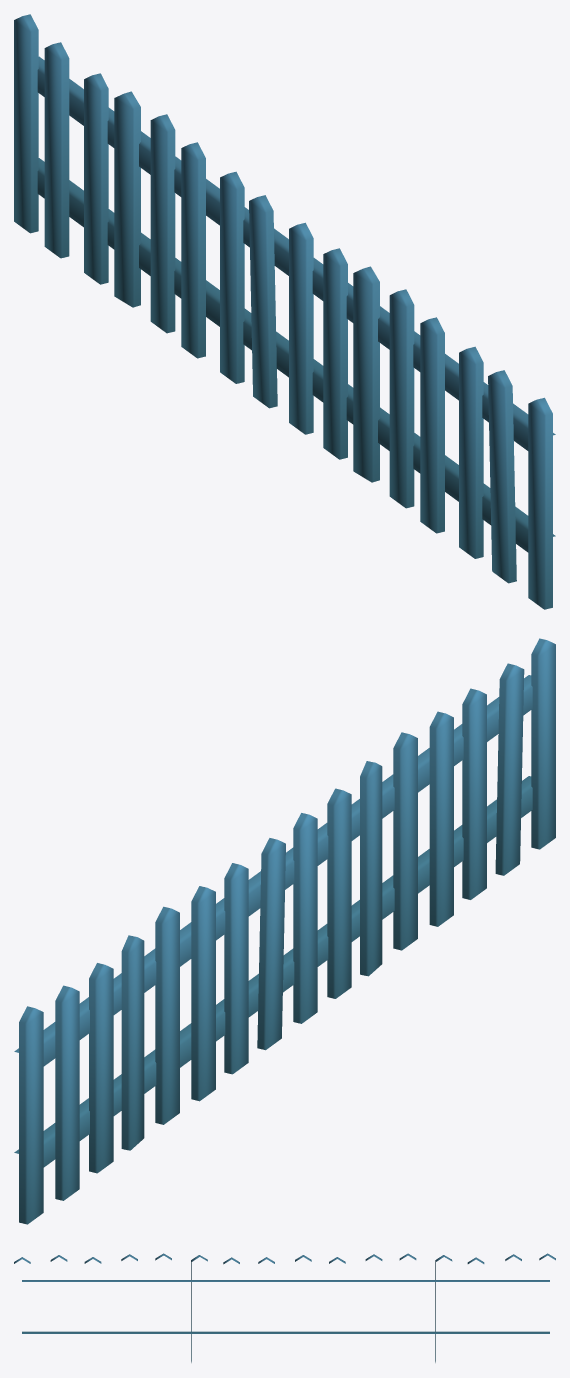
The model's file is WoodFence02Night.glb.
3 renders of one model, top to bottom at view 1: azimuth 30°, elevation 25°; view 2: azimuth 150°, elevation 25°; view 3: azimuth 270°, elevation 25°, orthographic. The views are drawn at different scales.
Visible parts, largest first — view 1: WoodFence02Night; view 2: WoodFence02Night; view 3: WoodFence02Night.
Part boxes in pixels (bbox=[...]): WoodFence02Night: bbox=[14, 14, 555, 609]; WoodFence02Night: bbox=[14, 638, 555, 1224]; WoodFence02Night: bbox=[14, 1253, 555, 1362].
Bounding box in the file's own units: 0.2173 × 1.86 × 8.47.
